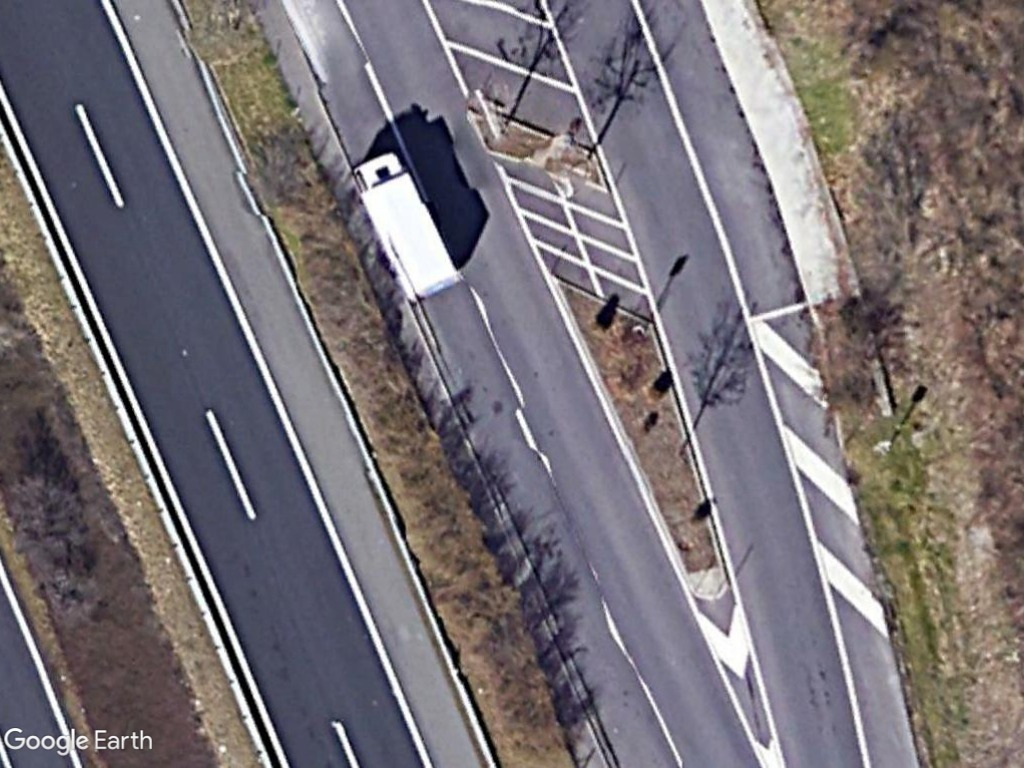truck: (350, 146, 466, 311)
